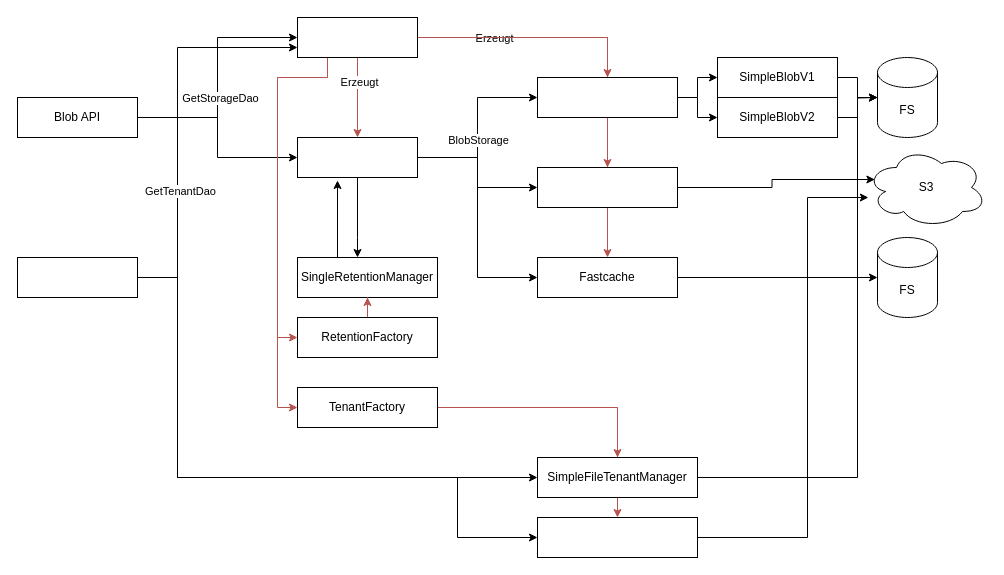
Image size: 1004x575. Some labels were removed from this diagram. The shapes that lost their labels are listed below. From the top down, each one's centre as x and y in pixels, then its label:
At (x=357, y=37): "StorageFactory (storagefactory)".
At (x=607, y=97): "SimpleFileBlobStorage".
At (x=357, y=157): "Storage (mainstorage)".
At (x=607, y=187): "S3BlobStorage".
At (x=77, y=277): "Config API".
At (x=617, y=537): "S3TenantManager".
